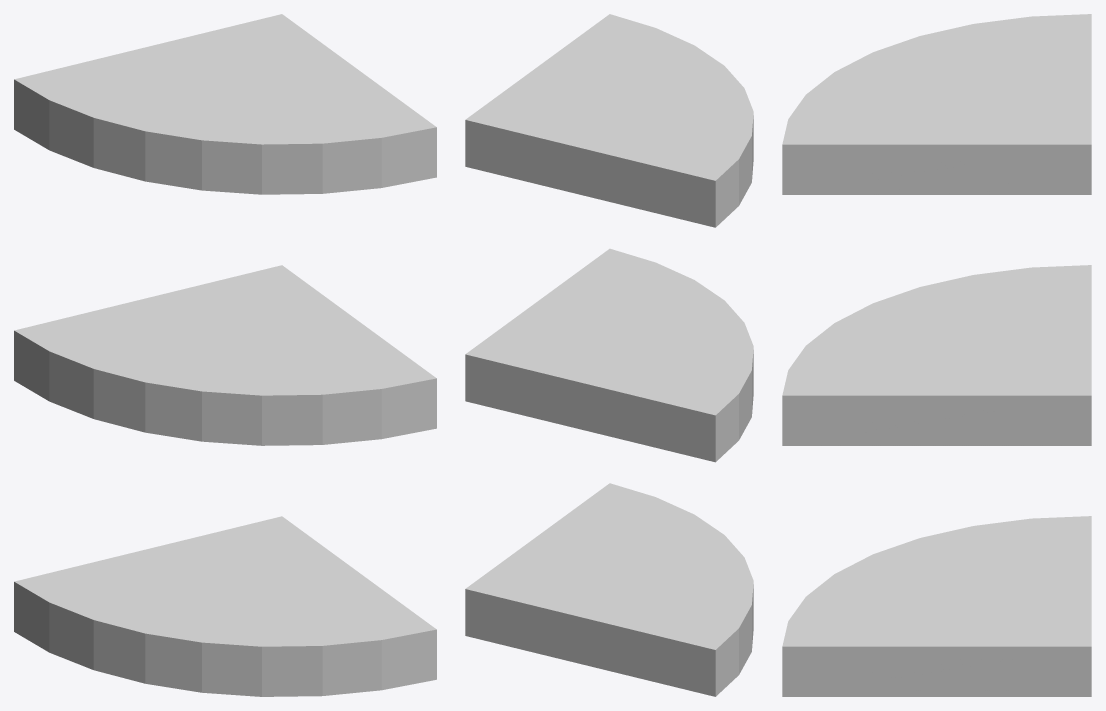
File: Prop_KitchenShelf_02.fbx
3 renders of one model, left to right at view 1: azimuth 30°, elevation 25°; view 2: azimuth 150°, elevation 25°; view 3: azimuth 270°, elevation 25°, orthographic. The views are drawn at different scales.
Visible parts, largest first — view 1: Prop_KitchenShelf_02; view 2: Prop_KitchenShelf_02; view 3: Prop_KitchenShelf_02.
Boxes of the visible parts, left/top/right/bottom form: Prop_KitchenShelf_02: left=14, top=14, right=436, bottom=696; Prop_KitchenShelf_02: left=465, top=14, right=753, bottom=696; Prop_KitchenShelf_02: left=782, top=14, right=1091, bottom=696.
Bounding box in the file's own units: 35.9 × 70.69 × 35.9.
